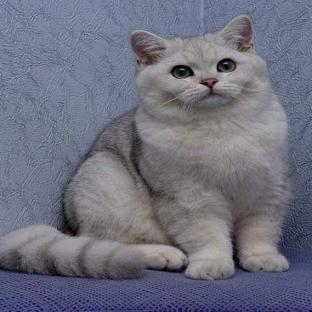Animal: (2, 15, 291, 280)
